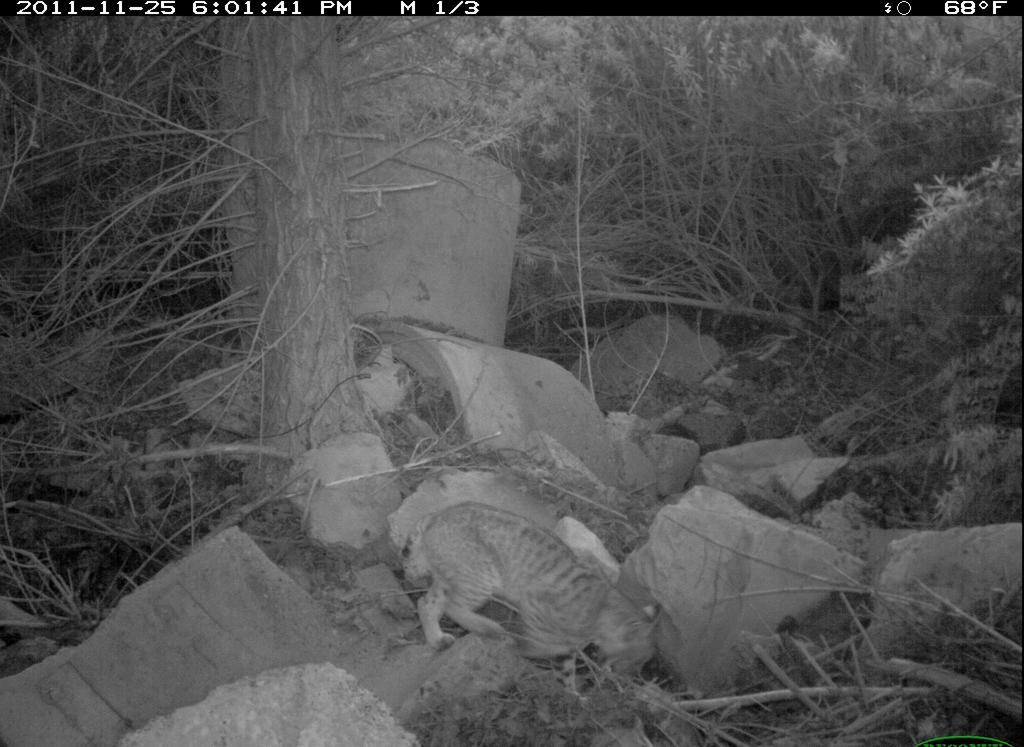bobcat: (387, 493, 680, 698)
